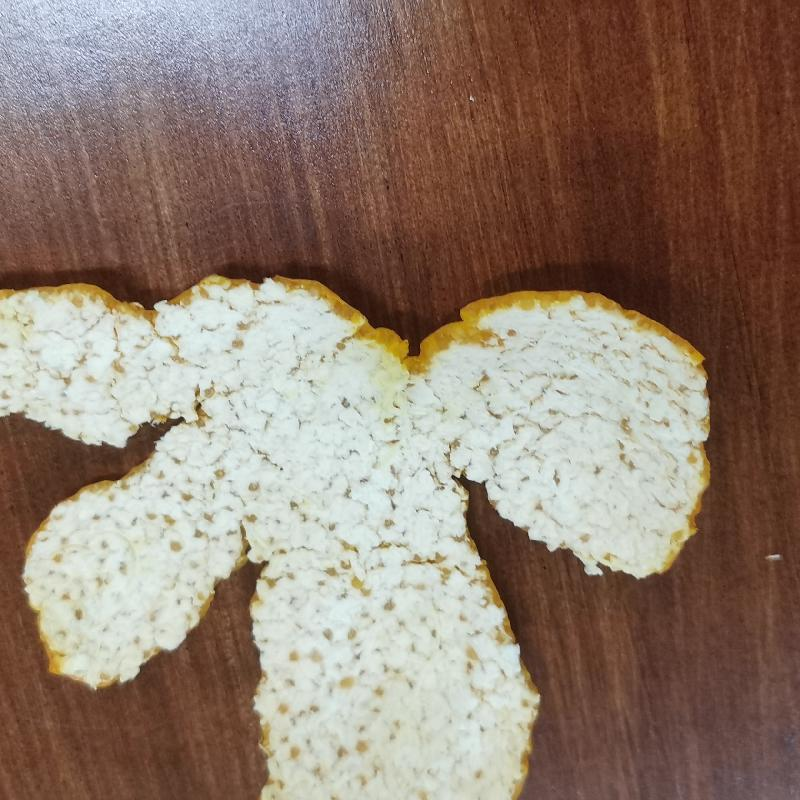orange: (1, 263, 711, 800)
